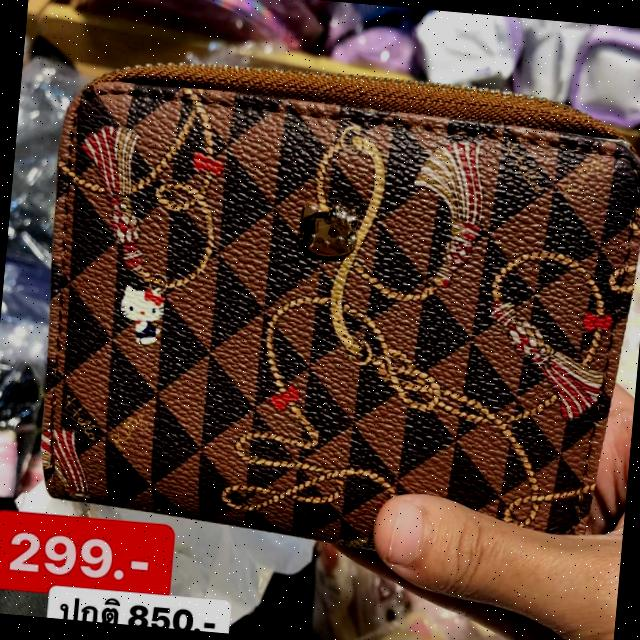Handbag: (18, 46, 640, 579)
